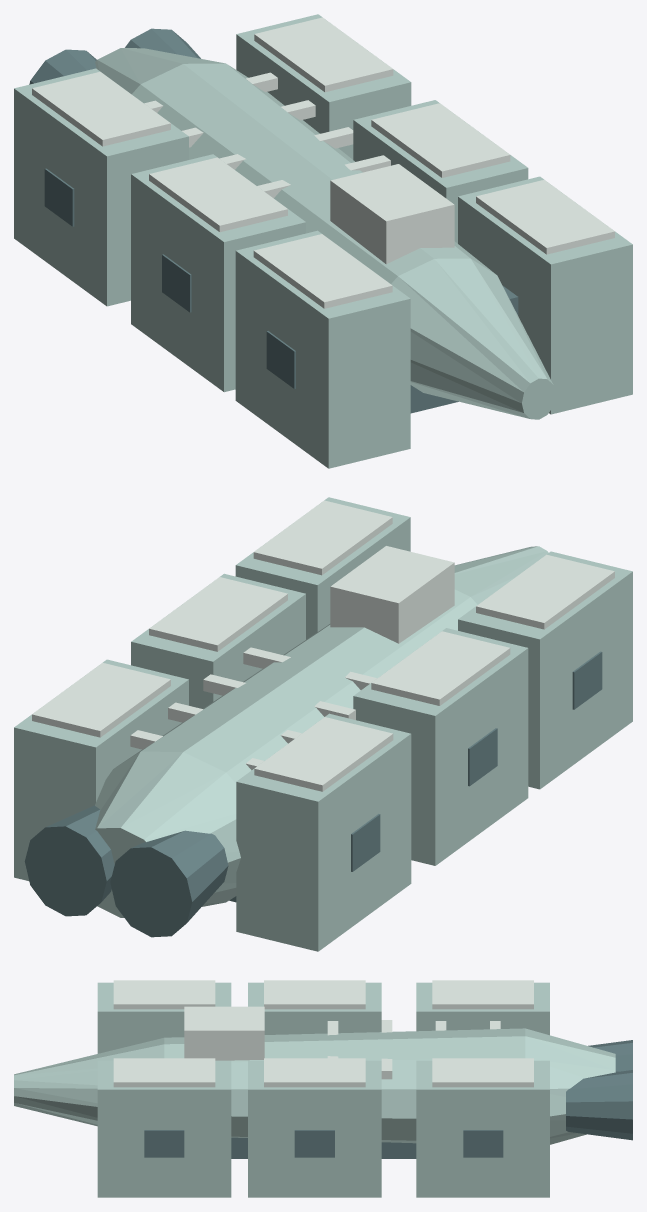
The picture shows the model from 3 angles, top to bottom: view 1: azimuth 30°, elevation 25°; view 2: azimuth 150°, elevation 25°; view 3: azimuth 270°, elevation 25°; orthographic projection. The views are drawn at different scales.
Size of the model in its own units: 3.71 by 2.01 by 8.98.
